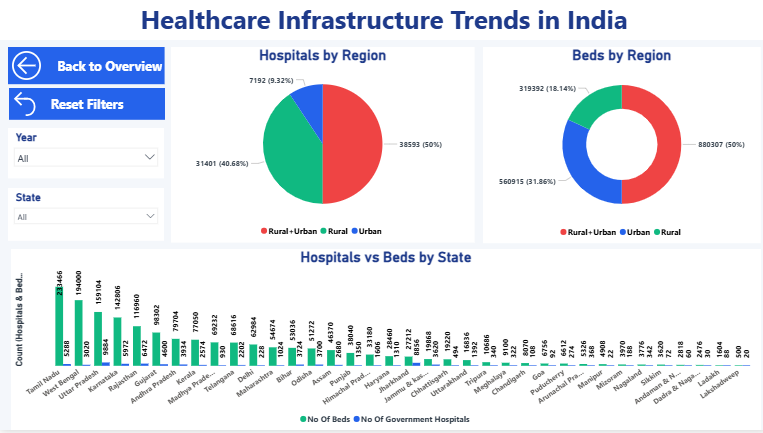

Layout of this report page (visuals, bound fields, positions):
{"tool":"powerbi","page":{"name":"Healthcare Trends","canvas":[1280,720],"ordinal":1},"visuals":[{"type":"textbox","box":[0,0,1280,70],"z":0},{"type":"pieChart","title":"Hospitals by Region","fields":{"Category":["Project Hospitals and beds.Type Of Region"],"Y":["Sum(Project Hospitals and beds.Number Of Government Hospitals)"]},"box":[285.7,81.4,505.7,325.7],"z":1000},{"type":"donutChart","title":"Beds by Region","fields":{"Category":["Project Hospitals and beds.Type Of Region"],"Y":["Sum(Project Hospitals and beds.Number Of Beds)"]},"box":[804.3,81.4,462.9,327.1],"z":2000},{"type":"clusteredColumnChart","title":"Hospitals vs Beds by State","fields":{"Category":["Project Hospitals and beds.State"],"Y":["Sum(Project Hospitals and beds.Number Of Beds)","Sum(Project Hospitals and beds.Number Of Government Hospitals)"]},"box":[18,418,1250,302],"z":3000},{"type":"actionButton","box":[13.3,81.7,260.8,61.7],"z":4000},{"type":"slicer","fields":{"Values":["Project Hospitals and beds.Year"]},"box":[14,216,260,84],"z":5000},{"type":"slicer","fields":{"Values":["Project Hospitals and beds.State"]},"box":[14,316,260,88],"z":6000},{"type":"actionButton","box":[14.3,150,260,52.9],"z":7000}]}

Visuals, with their boxes in screenshot pixels (x1, y1, x2, y2), scaled from the page's 1280x720 canvas onto the 763x433 screenshot:
textbox: <box>0,0,762,42</box>
"Hospitals by Region" pieChart: <box>170,49,472,245</box>
"Beds by Region" donutChart: <box>479,49,755,246</box>
"Hospitals vs Beds by State" clusteredColumnChart: <box>11,251,756,432</box>
actionButton: <box>8,49,163,86</box>
slicer - Project Hospitals and beds.Year: <box>8,130,163,180</box>
slicer - Project Hospitals and beds.State: <box>8,190,163,243</box>
actionButton: <box>9,90,164,122</box>
